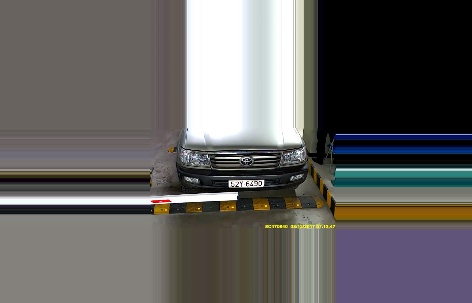plate: (226, 175, 267, 188)
